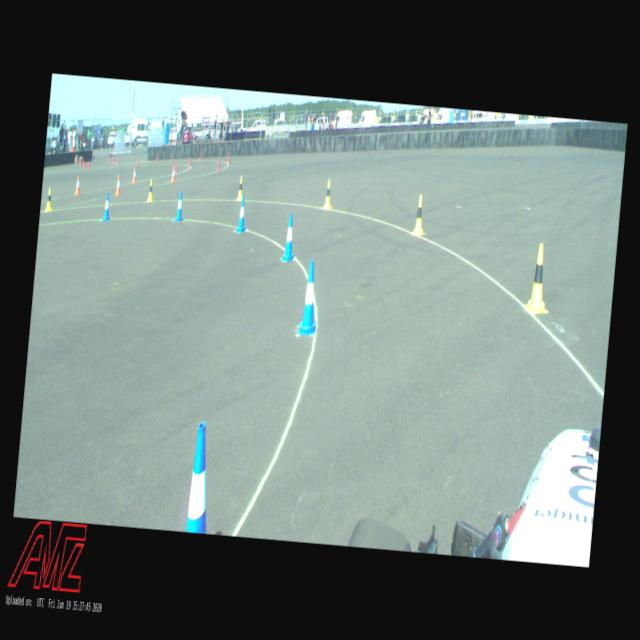blue_cone: (186, 421, 216, 534), (298, 258, 321, 334), (282, 213, 296, 260), (236, 196, 248, 234), (174, 190, 185, 222), (102, 192, 111, 221)
orange_cone: (115, 175, 121, 195), (75, 176, 81, 194), (170, 165, 176, 182), (132, 167, 137, 183)
yellow_cone: (526, 242, 550, 314), (413, 194, 426, 235), (322, 179, 332, 208), (44, 188, 53, 212), (236, 176, 243, 200), (147, 178, 154, 200)
